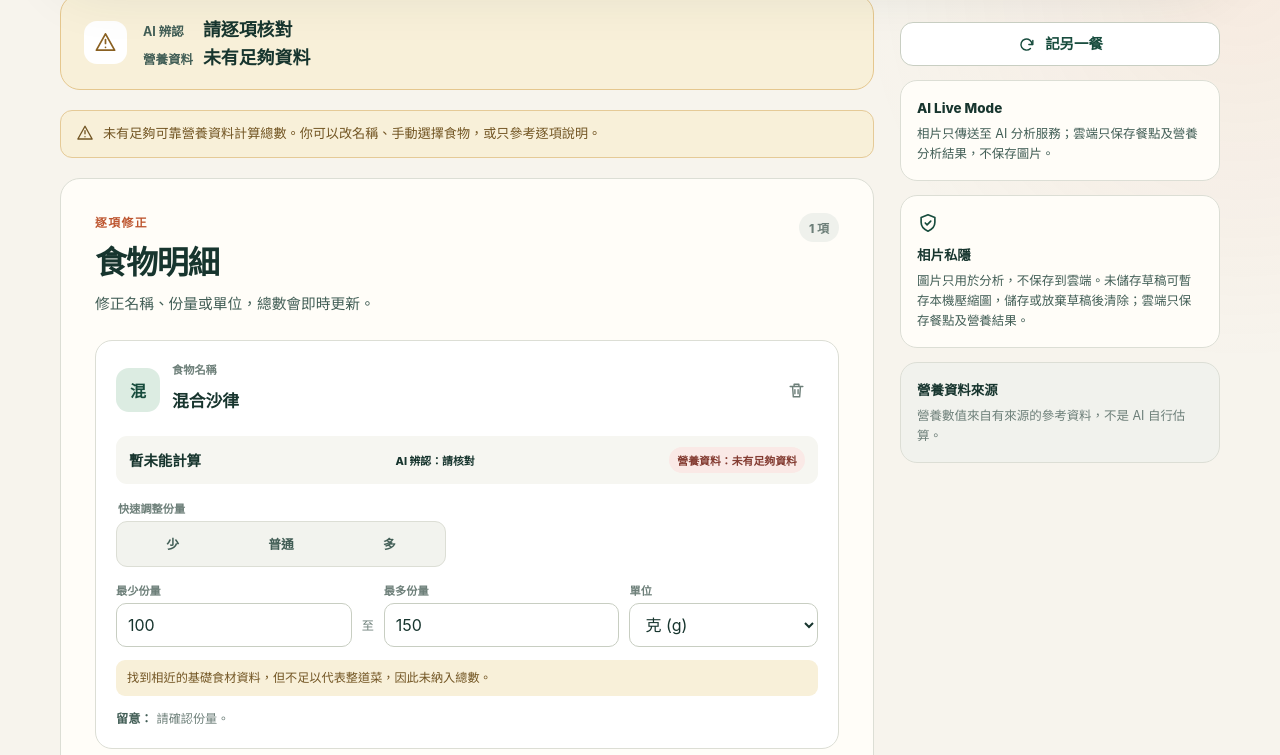
Test: meal identity correction › estimates chicken breast salad as a salad range instead of plain chicken
(page scrolled)
Replace the text in the field labelled "食物名稱" with "chicken breast salad": (467, 401) [172,382,762,420]
(page scrolled)
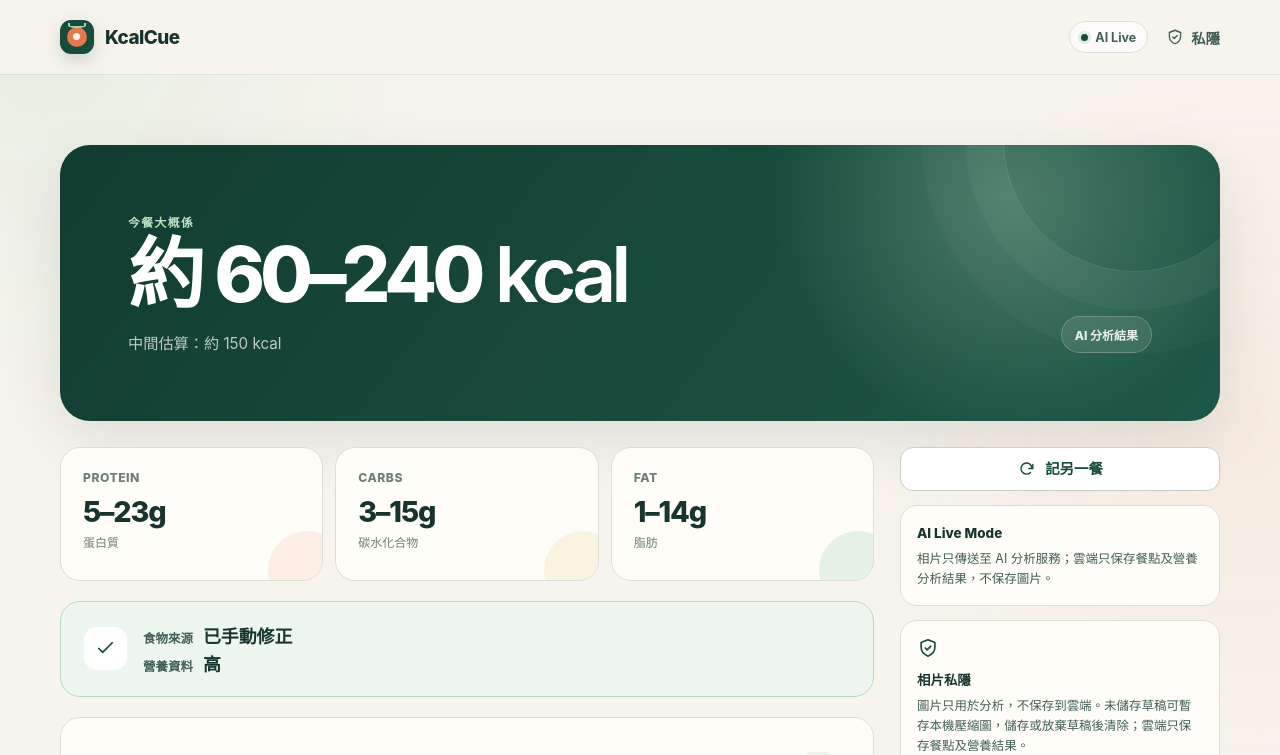
Expected: the heading "約 60–240 kcal" is shown, [128,237,626,314]
